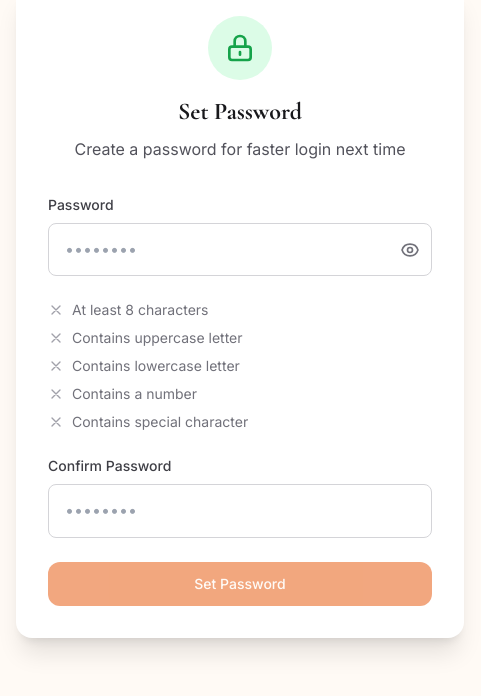
it: SetPasswordForm › shows passwords match message when passwords match
The image size is (481, 696).
In the password field labelled "Password": (240, 250) [48,223,432,276], type "SecurePassword123!"
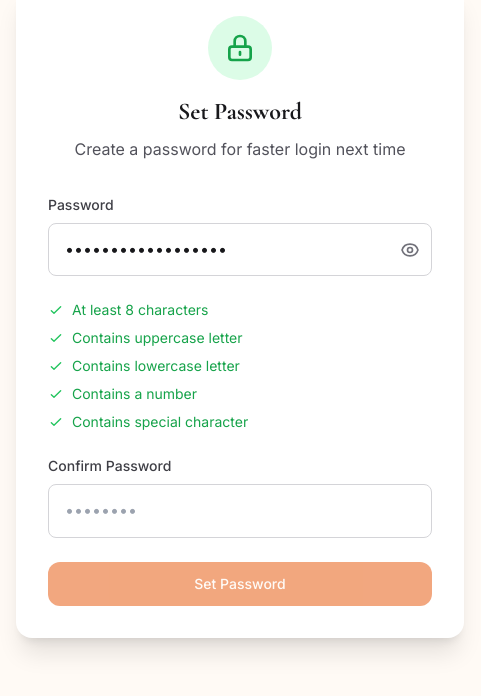
In the password field labelled "Confirm Password": (240, 511) [48,484,432,538], type "SecurePassword123!"
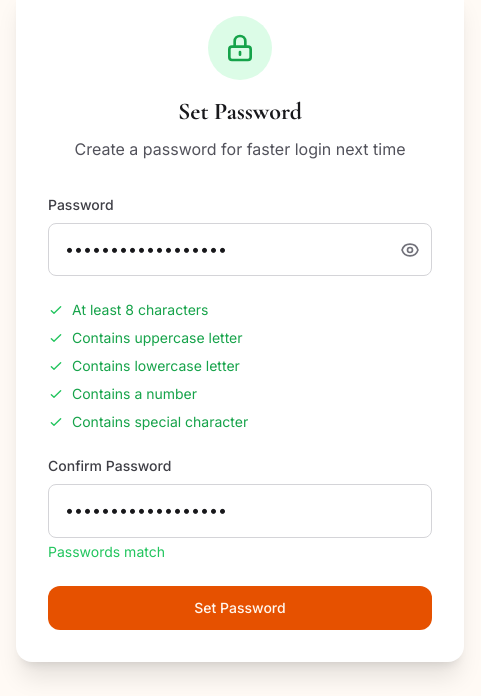
Now the text "Passwords match" is shown, box [48,543,165,560]
